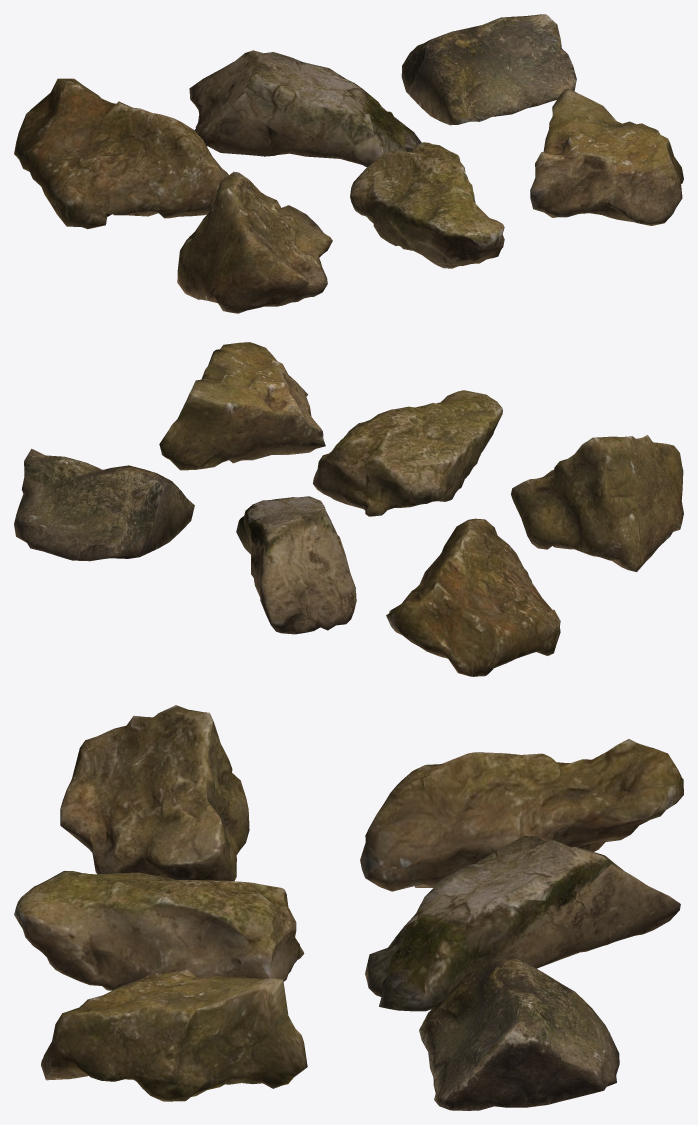
Rendered from moss_rocks.glb.
3 renders of one model, top to bottom at view 1: azimuth 30°, elevation 25°; view 2: azimuth 150°, elevation 25°; view 3: azimuth 270°, elevation 25°, orthographic. The views are drawn at different scales.
Parts seen in each view (by area): view 1: rock_moss_set_01_rock01, rock_moss_set_01_rock02, rock_moss_set_01_rock06, rock_moss_set_01_rock04, rock_moss_set_01_rock03, rock_moss_set_01_rock05; view 2: rock_moss_set_01_rock04, rock_moss_set_01_rock01, rock_moss_set_01_rock05, rock_moss_set_01_rock03, rock_moss_set_01_rock06, rock_moss_set_01_rock02; view 3: rock_moss_set_01_rock01, rock_moss_set_01_rock02, rock_moss_set_01_rock05, rock_moss_set_01_rock04, rock_moss_set_01_rock06, rock_moss_set_01_rock03.
Part boxes in pixels (left/top/right/bottom): rock_moss_set_01_rock01: left=14, top=78, right=228, bottom=229; rock_moss_set_01_rock02: left=189, top=50, right=421, bottom=167; rock_moss_set_01_rock06: left=530, top=88, right=683, bottom=225; rock_moss_set_01_rock04: left=177, top=171, right=332, bottom=313; rock_moss_set_01_rock03: left=401, top=14, right=576, bottom=125; rock_moss_set_01_rock05: left=350, top=142, right=504, bottom=268; rock_moss_set_01_rock04: left=511, top=435, right=683, bottom=572; rock_moss_set_01_rock01: left=386, top=518, right=560, bottom=676; rock_moss_set_01_rock05: left=313, top=390, right=502, bottom=516; rock_moss_set_01_rock03: left=14, top=448, right=194, bottom=561; rock_moss_set_01_rock06: left=159, top=342, right=325, bottom=470; rock_moss_set_01_rock02: left=236, top=496, right=356, bottom=634; rock_moss_set_01_rock01: left=360, top=739, right=683, bottom=891; rock_moss_set_01_rock02: left=365, top=835, right=680, bottom=1011; rock_moss_set_01_rock05: left=14, top=870, right=304, bottom=990; rock_moss_set_01_rock04: left=60, top=705, right=249, bottom=880; rock_moss_set_01_rock06: left=41, top=969, right=307, bottom=1101; rock_moss_set_01_rock03: left=419, top=955, right=619, bottom=1110.
Size of the model in its own units: 7.99 by 1.77 by 6.94.
Materials: 1 (1 with a texture image).
